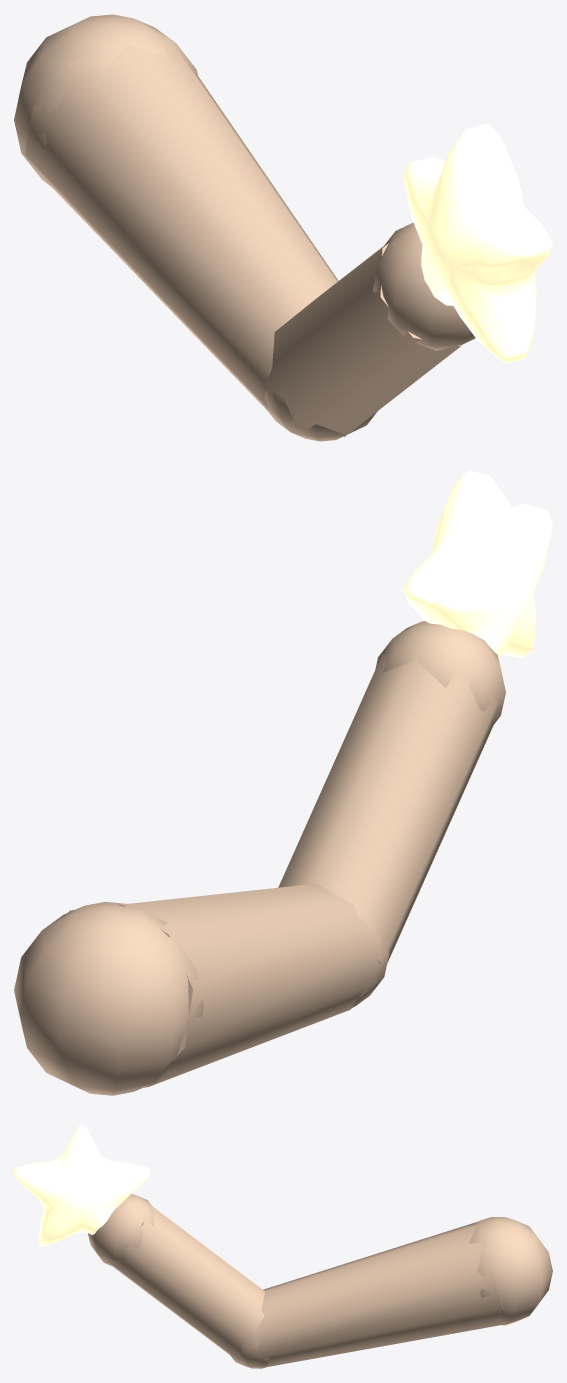
File: Trait_Tail.fbx
The picture shows the model from 3 angles, top to bottom: view 1: azimuth 30°, elevation 25°; view 2: azimuth 150°, elevation 25°; view 3: azimuth 270°, elevation 25°; orthographic projection. The views are drawn at different scales.
Visible parts, largest first — view 1: Tail, Tail_Star, Tail_Tip_Stem, Tail_Cap, Tail_Tip_Stem_Cap.001, Tail_Cap.001; view 2: Tail_Tip_Stem, Tail, Tail_Cap, Tail_Star, Tail_Tip_Stem_Cap.001; view 3: Tail, Tail_Tip_Stem, Tail_Star, Tail_Cap, Tail_Tip_Stem_Cap.001, Tail_Cap.001.
Part boxes in pixels (left/top/right/bottom): Tail: left=25, top=36, right=338, bottom=410; Tail_Star: left=403, top=123, right=552, bottom=363; Tail_Tip_Stem: left=264, top=243, right=463, bottom=436; Tail_Cap: left=14, top=14, right=198, bottom=188; Tail_Tip_Stem_Cap.001: left=373, top=222, right=475, bottom=350; Tail_Cap.001: left=261, top=391, right=377, bottom=441; Tail_Tip_Stem: left=278, top=654, right=498, bottom=966; Tail: left=68, top=883, right=381, bottom=1088; Tail_Cap: left=14, top=902, right=203, bottom=1095; Tail_Star: left=403, top=470, right=552, bottom=659; Tail_Tip_Stem_Cap.001: left=375, top=621, right=505, bottom=726; Tail: left=253, top=1222, right=509, bottom=1367; Tail_Tip_Stem: left=107, top=1205, right=264, bottom=1360; Tail_Star: left=14, top=1124, right=149, bottom=1246; Tail_Cap: left=469, top=1217, right=552, bottom=1325; Tail_Tip_Stem_Cap.001: left=88, top=1194, right=154, bottom=1266; Tail_Cap.001: left=229, top=1344, right=268, bottom=1368.
Size of the model in its own units: 9.51 by 24.03 by 49.21.
